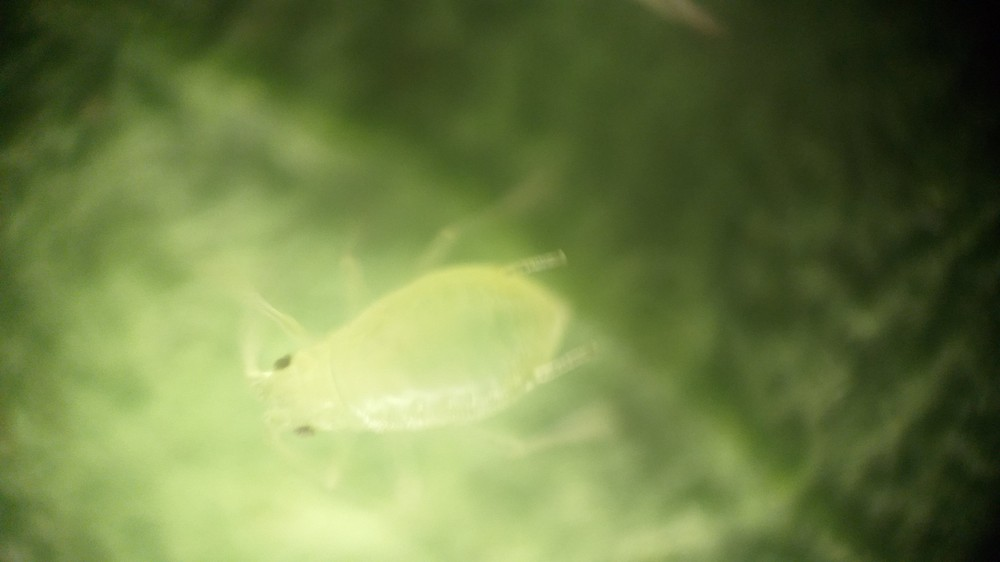Pulgon: (183, 182, 660, 533)
